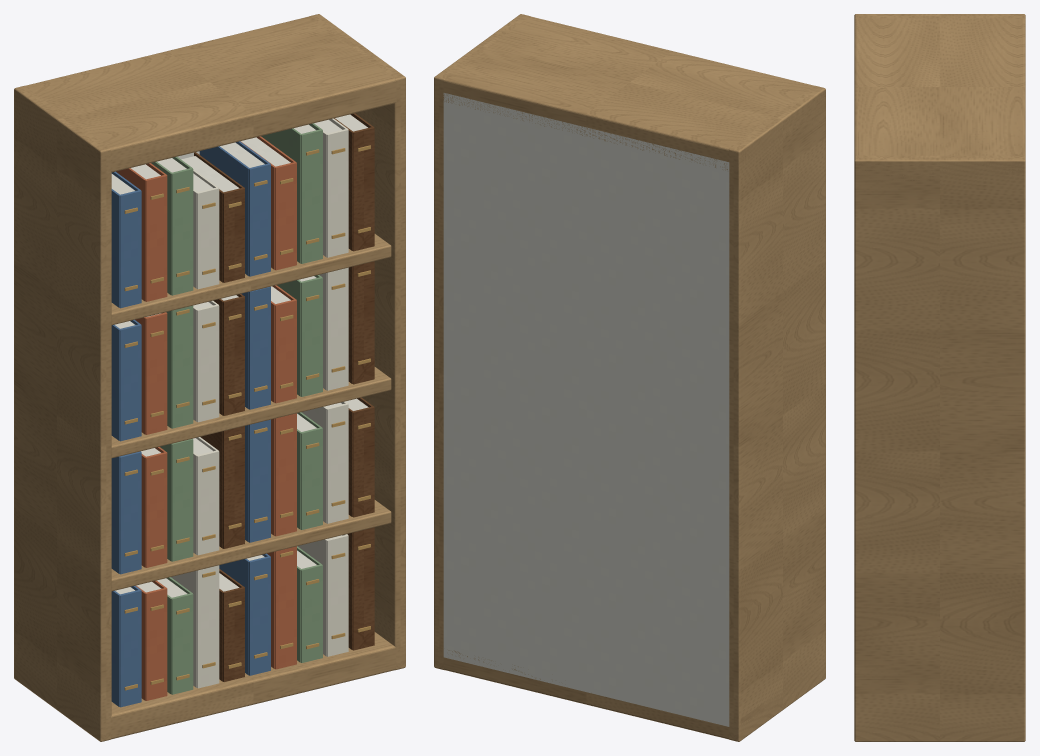
Rendered from bookshelf.glb.
3 views of the same model, side by side, from view 1: azimuth 30°, elevation 25°; view 2: azimuth 150°, elevation 25°; view 3: azimuth 270°, elevation 25° (orthographic).
Parts seen in each view (by area): view 1: Cabinet side, Cabinet top bottom.001, Cabinet side.001, Cabinet top bottom, Bookshelf horizontal shelf.002, Bookshelf horizontal shelf.001, Bookshelf horizontal shelf, Book spine.037, Book spine.038, Book spine.032, Book spine.031, Book spine.022 (+50 smaller); view 2: Cabinet back, Cabinet side, Cabinet top bottom.001, Cabinet side.001, Cabinet top bottom; view 3: Cabinet side.001, Cabinet top bottom.001, Cabinet side.
Part boxes in pixels (x1,y1,x2,y2): Cabinet side: (14,85,111,741); Cabinet top bottom.001: (25,16,400,172); Cabinet side.001: (309,14,405,670); Cabinet top bottom: (110,632,404,739); Bookshelf horizontal shelf.002: (111,234,391,325); Bookshelf horizontal shelf.001: (111,367,391,458); Bookshelf horizontal shelf: (111,500,391,591); Book spine.037: (300,129,322,263); Book spine.038: (326,129,348,257); Book spine.032: (171,168,193,295); Book spine.031: (145,175,167,301); Book spine.022: (171,289,193,428); Cabinet back: (443,93,729,726); Cabinet side: (728,85,825,741); Cabinet top bottom.001: (435,16,824,172); Cabinet side.001: (434,14,530,670); Cabinet top bottom: (435,646,824,739); Cabinet side.001: (854,155,1025,741); Cabinet top bottom.001: (854,18,1025,181); Cabinet side: (854,14,1025,19).
Bounding box in the file's own units: 0.65 × 1.2 × 0.32.
Materials: 9 (9 with a texture image).
